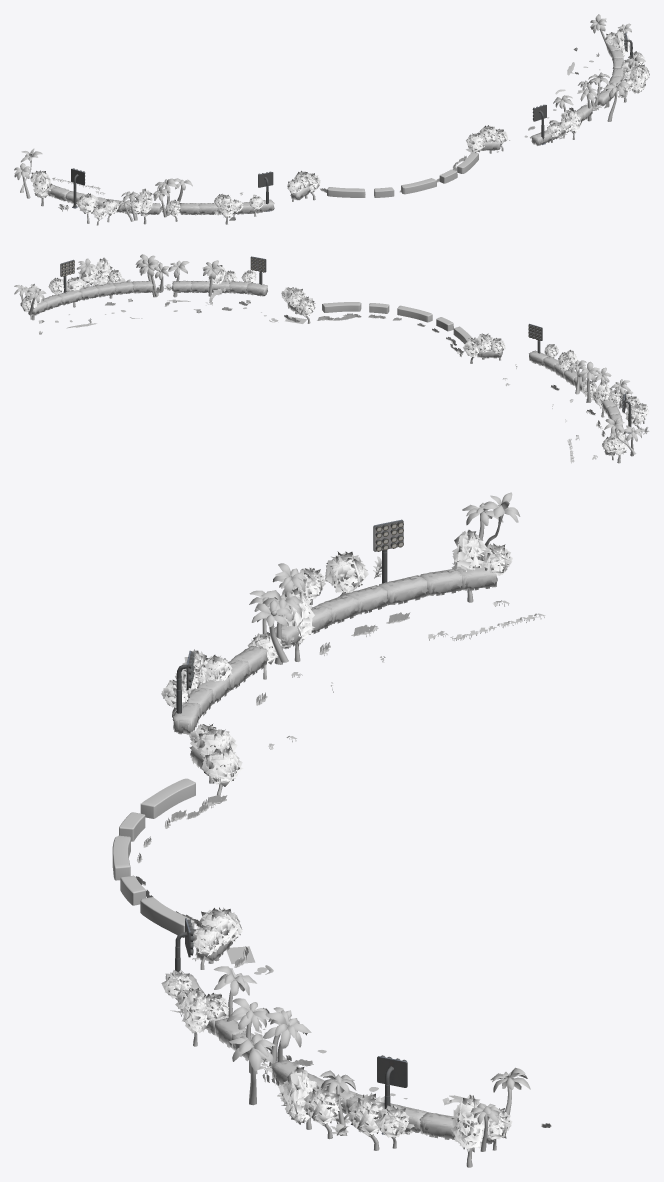
The model's file is pref_Area_Top_Forest_Small_beta_01_lv3.fbx.
3 views of the same model, one above another, from view 1: azimuth 30°, elevation 25°; view 2: azimuth 150°, elevation 25°; view 3: azimuth 270°, elevation 25° (orthographic). The views are drawn at different scales.
Visible parts, largest first — view 1: pref_sm_beach_techgrassny01b_mirror_beta_lv3, sm_beach_techqiutree03_lv3 (×2), pref_sm_beach_techgrassny01b_beta_lv3, pref_sm_beach_techgtree06d_lv3, sm_beach_techqiutree02_lv3, pref_sm_beach_techbiglight_lv3; view 2: pref_sm_beach_techgrassny01b_mirror_beta_lv3, pref_sm_beach_techgtree06d_lv3 (×2), pref_sm_beach_techgrassny01b_beta_lv3, sm_beach_techqiutree03_lv3; view 3: sm_beach_techqiutree02_lv3 (×4), sm_beach_techqiutree03_lv3 (×3), pref_sm_beach_techgrassny01b_mirror_beta_lv3, pref_sm_beach_techgtree06d_lv3 (×2), pref_sm_beach_techbiglight_lv3 (×2), pref_sm_beach_techgrassny01b_beta_lv3, pref_sm_beach_techvegetation01_lv3.
Part boxes in pixels (left/top/right/bottom): pref_sm_beach_techgrassny01b_mirror_beta_lv3: left=401, top=152, right=478, bottom=194; sm_beach_techqiutree03_lv3 (×2): left=32, top=65, right=645, bottom=198; pref_sm_beach_techgrassny01b_beta_lv3: left=327, top=187, right=394, bottom=197; pref_sm_beach_techgtree06d_lv3: left=603, top=81, right=629, bottom=121; sm_beach_techqiutree02_lv3: left=76, top=193, right=98, bottom=213; pref_sm_beach_techbiglight_lv3: left=71, top=168, right=85, bottom=208; pref_sm_beach_techgrassny01b_mirror_beta_lv3: left=322, top=302, right=432, bottom=322; pref_sm_beach_techgtree06d_lv3 (×2): left=138, top=255, right=599, bottom=402; pref_sm_beach_techgrassny01b_beta_lv3: left=436, top=317, right=472, bottom=343; sm_beach_techqiutree03_lv3: left=95, top=257, right=112, bottom=284; sm_beach_techqiutree02_lv3 (×4): left=202, top=551, right=384, bottom=1135; sm_beach_techqiutree03_lv3 (×3): left=281, top=530, right=488, bottom=1152; pref_sm_beach_techgrassny01b_mirror_beta_lv3: left=112, top=835, right=194, bottom=937; pref_sm_beach_techgtree06d_lv3 (×2): left=229, top=1010, right=311, bottom=1105; pref_sm_beach_techbiglight_lv3 (×2): left=373, top=519, right=407, bottom=1134; pref_sm_beach_techgrassny01b_beta_lv3: left=119, top=778, right=195, bottom=841; pref_sm_beach_techvegetation01_lv3: left=379, top=575, right=428, bottom=605.
Size of the model in its own units: 141 by 11.18 by 43.28.
